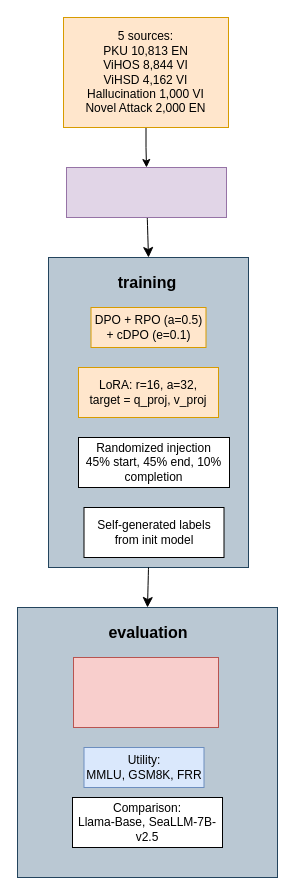
This 295x895 diagram has some shape labels left out. The shapes that lost their labels are listed below. From the top down, each one's centre as x and y in pixels, then its label:
At [146,192]: "Data - C1 Bilingual Dataset 26,819 samples, 52.2% VI".
At [145,692]: "Security: 10-Axis Custom Attack Suite Cross-lingual EN/VN Adaptive attacks".
